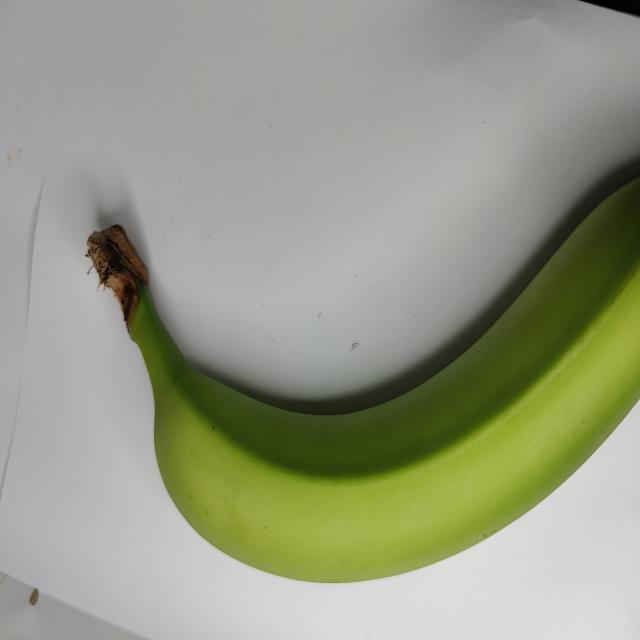raw: (37, 121, 640, 601)
